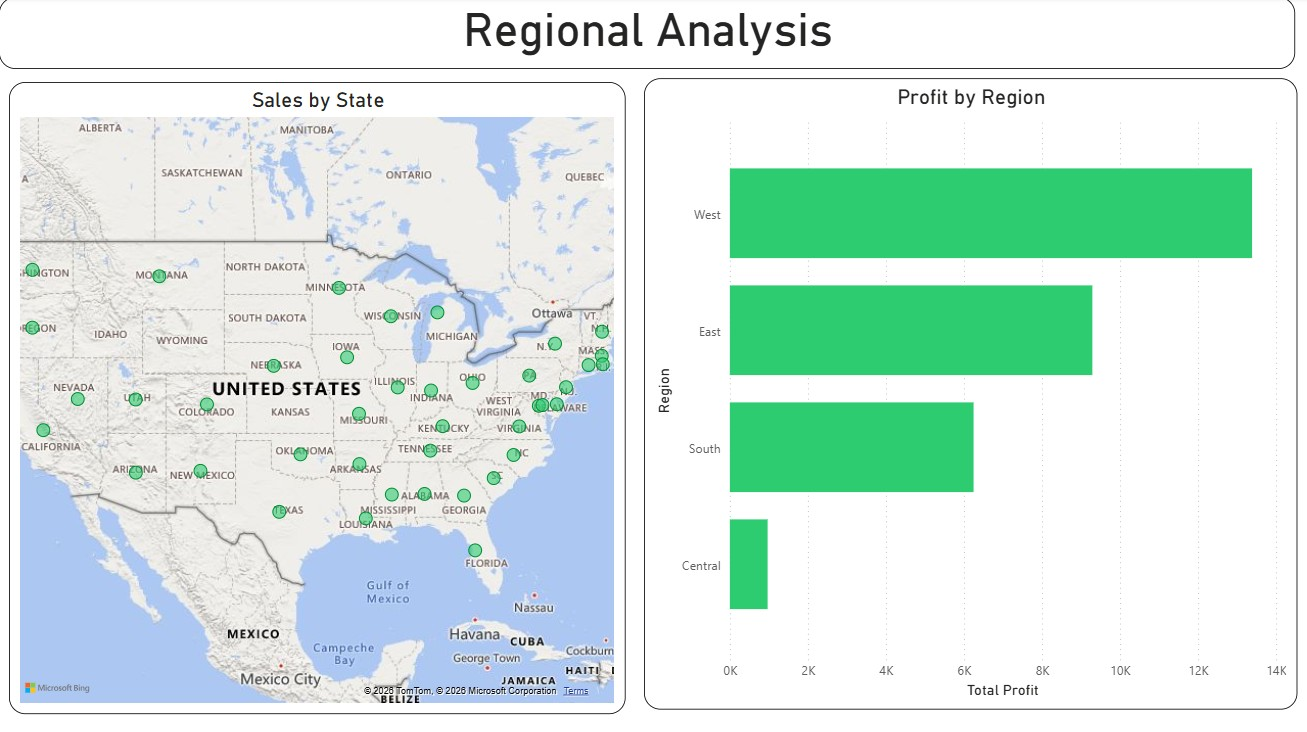

What the dashboard file says about the page in this screenshot:
{"tool":"powerbi","page":{"name":"Page 3","canvas":[1280,720],"ordinal":2},"visuals":[{"type":"map","title":"Sales by State","fields":{"Category":["cleaned_superstore.State"]},"box":[10,83.3,603.3,618.3],"z":0},{"type":"clusteredBarChart","title":"Profit by Region","fields":{"Category":["cleaned_superstore.Region"],"Y":["Sum(cleaned_superstore.Profit)"]},"box":[630.5,79.4,639.1,617.5],"z":1000},{"type":"textbox","title":"Regional Analysis","box":[0,0,1268.3,70],"z":2000}]}

Visuals, with their boxes in screenshot pixels (x1, y1, x2, y2), scaled from the page's 1280x720 canvas onto the 1307x732 screenshot:
"Sales by State" map: pyautogui.locateOnScreen(10, 85, 626, 713)
"Profit by Region" clusteredBarChart: pyautogui.locateOnScreen(644, 81, 1296, 709)
"Regional Analysis" textbox: pyautogui.locateOnScreen(0, 0, 1295, 71)
